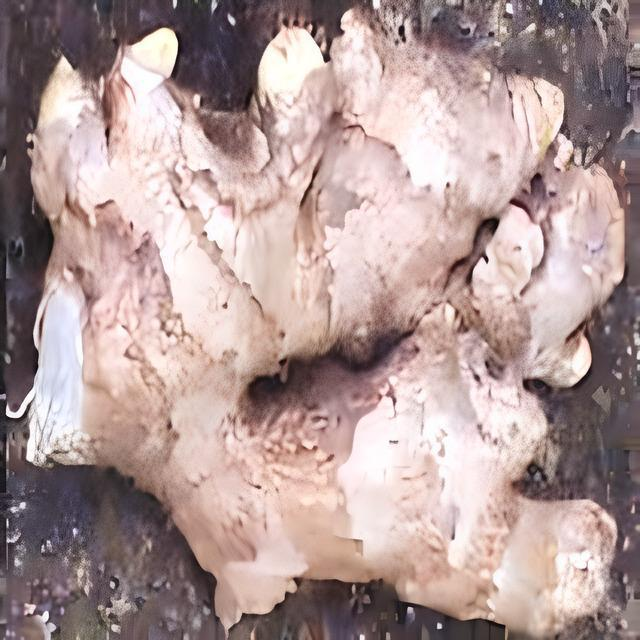ginger: (39, 33, 634, 615)
